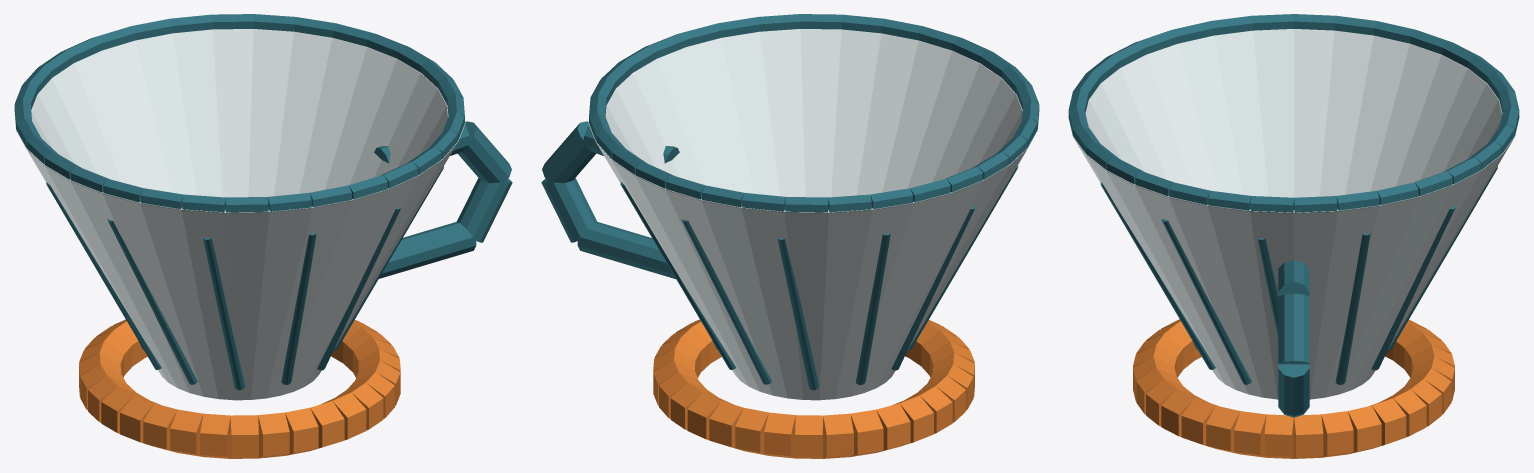
Rendered from dripper.glb.
3 views of the same model, side by side, from view 1: azimuth 30°, elevation 25°; view 2: azimuth 150°, elevation 25°; view 3: azimuth 270°, elevation 25° (orthographic).
Visible parts, largest first — view 1: conical wall, handle3, handle2, handle1, flute40, flute30, flute50, support foot9, support foot11, support foot12, support foot10, support foot8 (+40 smaller); view 2: conical wall, handle3, handle2, handle1, flute80, flute70, flute90, support foot22, support foot20, support foot19, support foot21, support foot23 (+40 smaller); view 3: conical wall, handle1, handle2, flute110, flute10, support foot1, support foot30, support foot0, support foot31, support foot2, support foot29, flute100 (+42 smaller).
Boxes of the visible parts, bbox=[...] form: conical wall: bbox=[14, 29, 465, 400]; handle3: bbox=[379, 221, 476, 278]; handle2: bbox=[457, 178, 512, 242]; handle1: bbox=[457, 121, 511, 183]; flute40: bbox=[203, 237, 245, 390]; flute30: bbox=[281, 232, 316, 384]; flute50: bbox=[107, 219, 197, 384]; support foot9: bbox=[258, 412, 289, 458]; support foot11: bbox=[200, 413, 230, 458]; support foot12: bbox=[170, 409, 203, 456]; support foot10: bbox=[230, 415, 258, 458]; support foot8: bbox=[285, 407, 318, 455]; conical wall: bbox=[588, 29, 1039, 400]; handle3: bbox=[577, 221, 675, 278]; handle2: bbox=[541, 178, 596, 242]; handle1: bbox=[542, 121, 596, 183]; flute80: bbox=[777, 238, 819, 390]; flute70: bbox=[856, 232, 890, 384]; flute90: bbox=[681, 219, 771, 384]; support foot22: bbox=[764, 412, 795, 458]; support foot20: bbox=[823, 413, 853, 458]; support foot19: bbox=[850, 409, 883, 456]; support foot21: bbox=[795, 415, 823, 458]; support foot23: bbox=[735, 407, 768, 455]; conical wall: bbox=[1068, 29, 1519, 399]; handle1: bbox=[1278, 294, 1309, 364]; handle2: bbox=[1278, 364, 1309, 415]; flute110: bbox=[1335, 233, 1370, 384]; flute10: bbox=[1161, 219, 1251, 384]; support foot1: bbox=[1234, 411, 1266, 457]; support foot30: bbox=[1321, 411, 1353, 457]; support foot0: bbox=[1264, 414, 1293, 458]; support foot31: bbox=[1294, 414, 1323, 458]; support foot2: bbox=[1206, 405, 1239, 454]; support foot29: bbox=[1348, 405, 1381, 454]; flute100: bbox=[1371, 205, 1455, 370].
Size of the model in its own units: 1.57 by 0.947 by 1.32.
